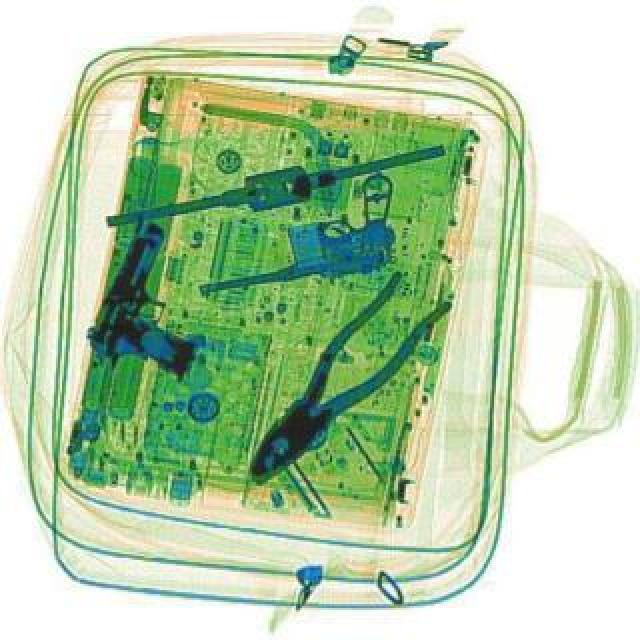gun: (180, 172, 410, 308), (80, 218, 232, 386)
wrench: (224, 264, 452, 506)
